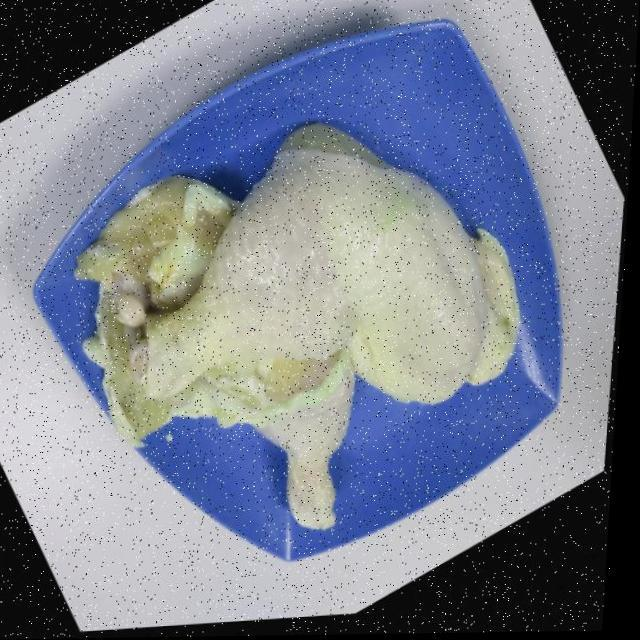quater: (78, 122, 530, 422), (20, 172, 405, 512)
